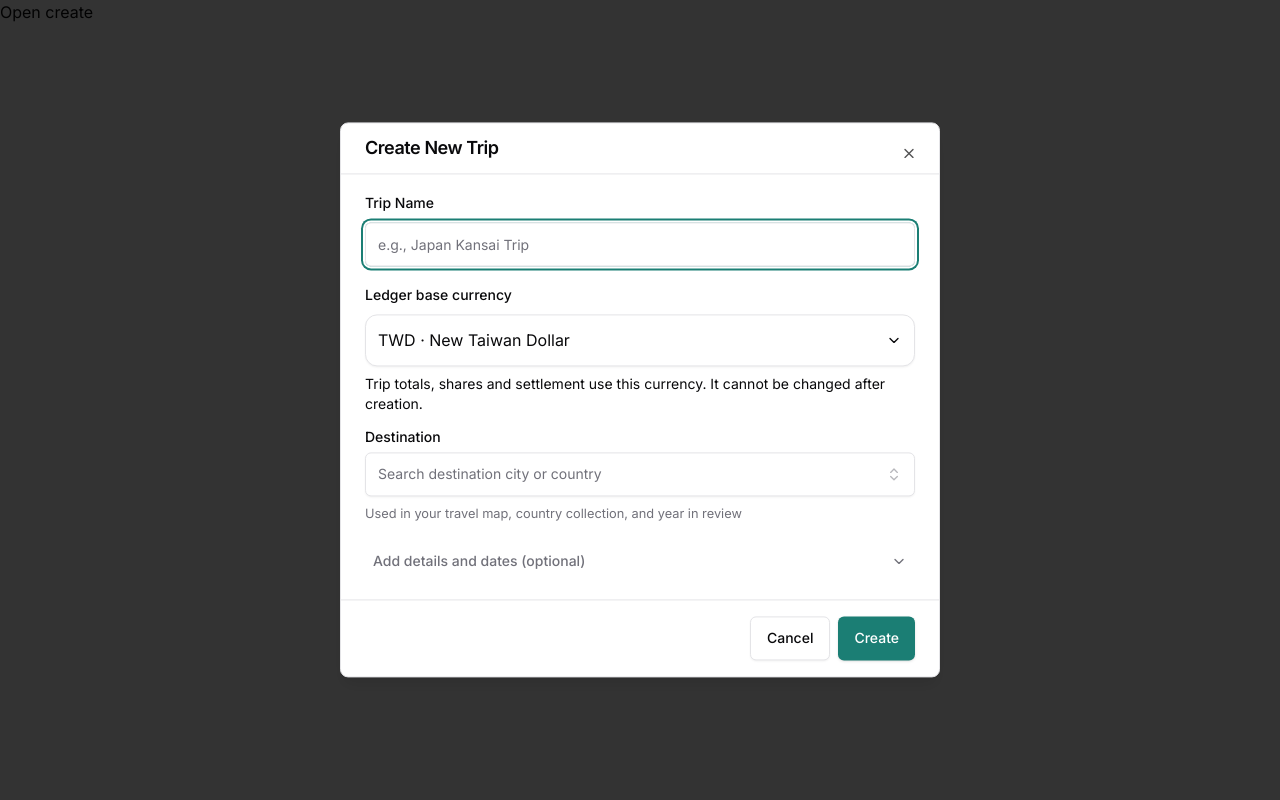
Test: background refresh preserves selected currency and input, blocks submission and does not steal focus
Expected: the button "Create" is enabled, [838,617,915,661]
Click the button with id "trip-base".
click(474, 340)  # box [365,314,915,366]
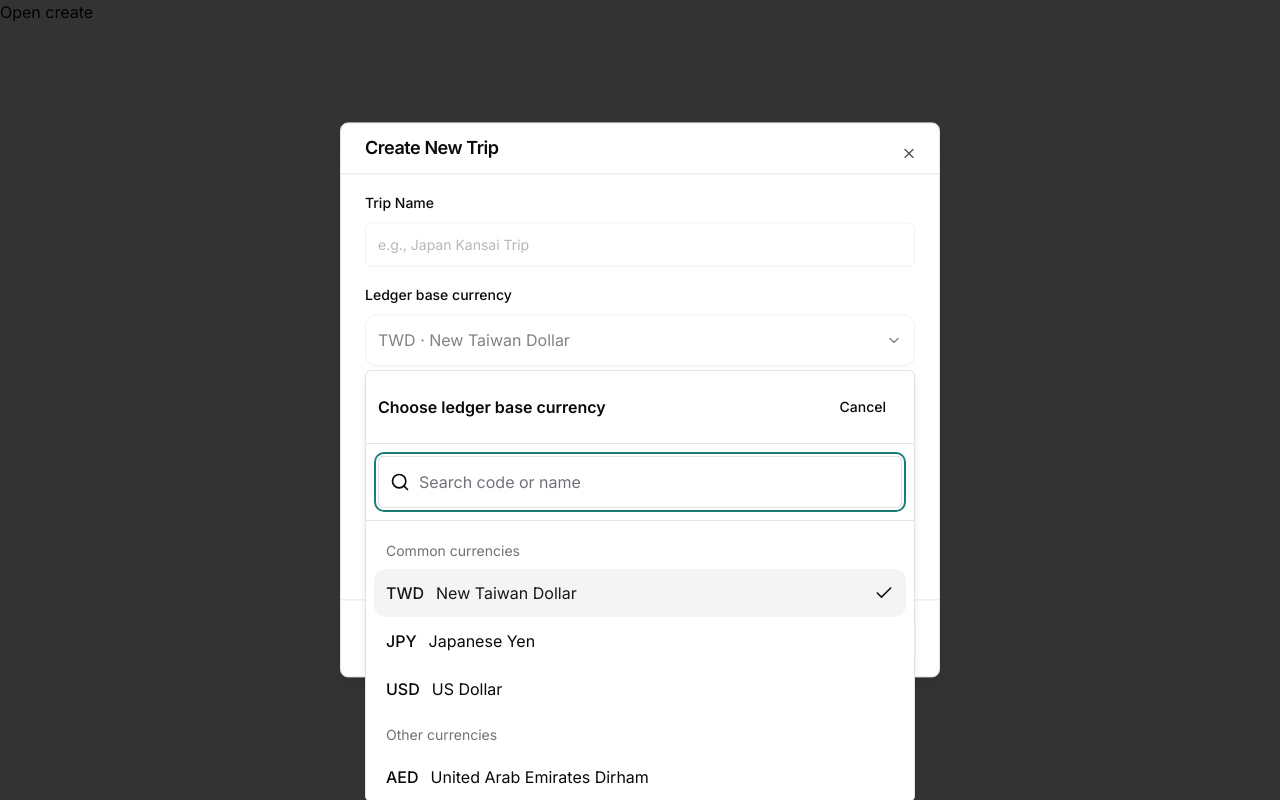
Type "USD" into the dropdown labelled "Choose ledger base currency".
click(640, 482); type("USD")  # box [378,456,902,508]
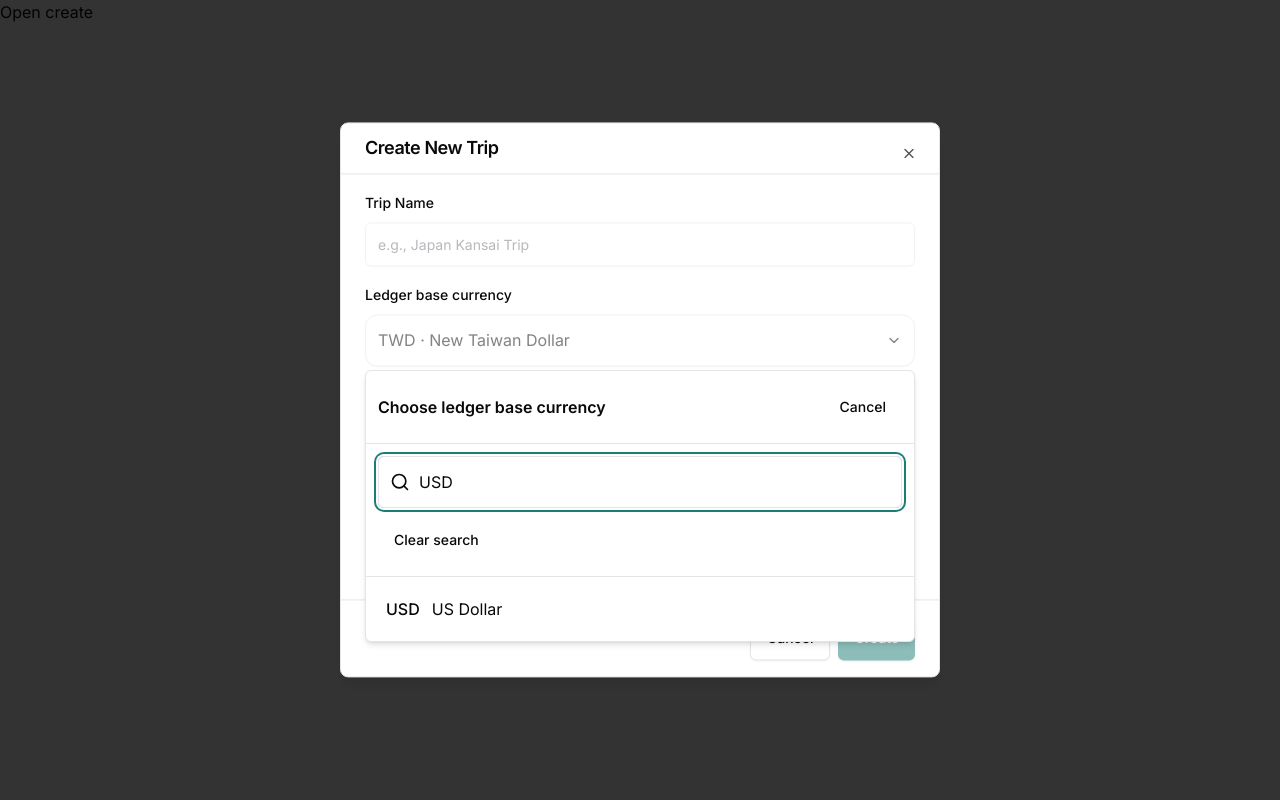
Click the option "USD US Dollar".
click(444, 609)  # box [386,599,502,619]
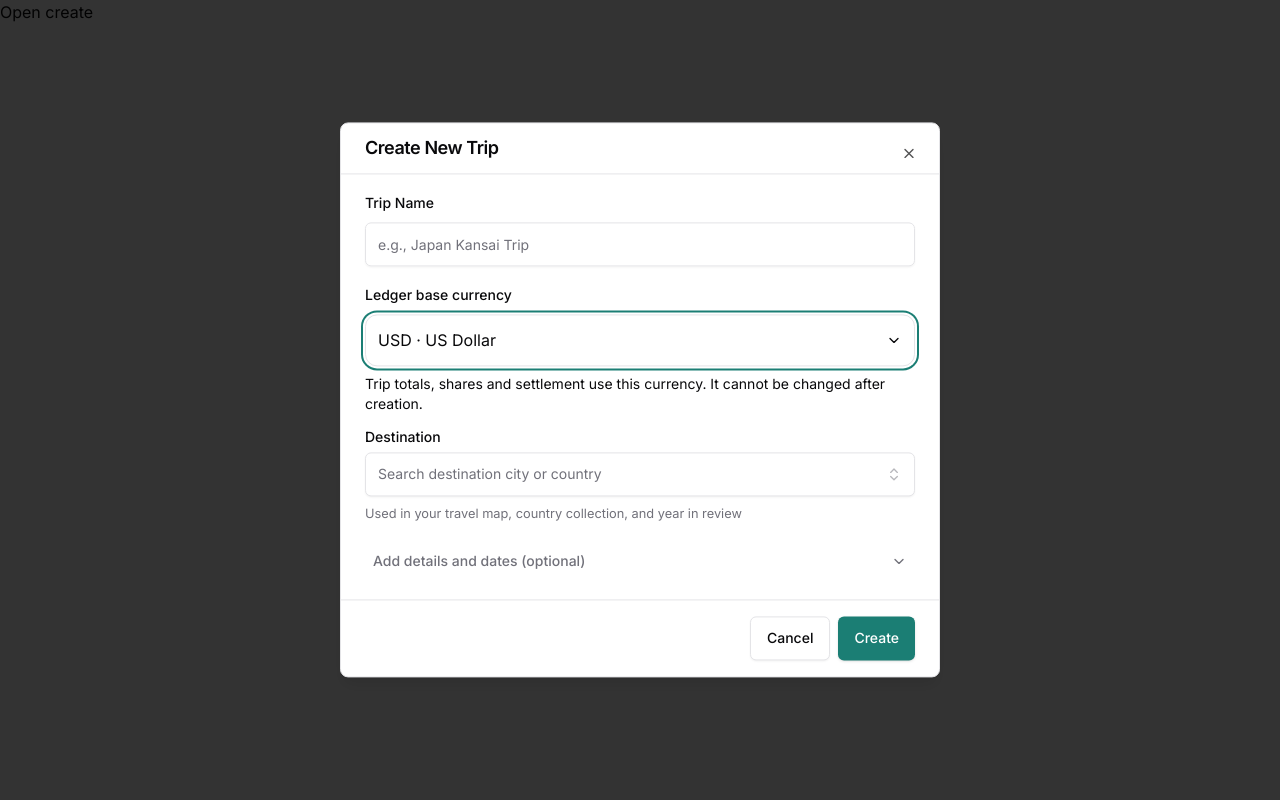
Result: the button with id "trip-base" shows "USD" at [365,314,915,366]
Type "Trip" into the field labelled "Trip Name".
click(640, 244); type("Trip")  # box [365,222,915,266]
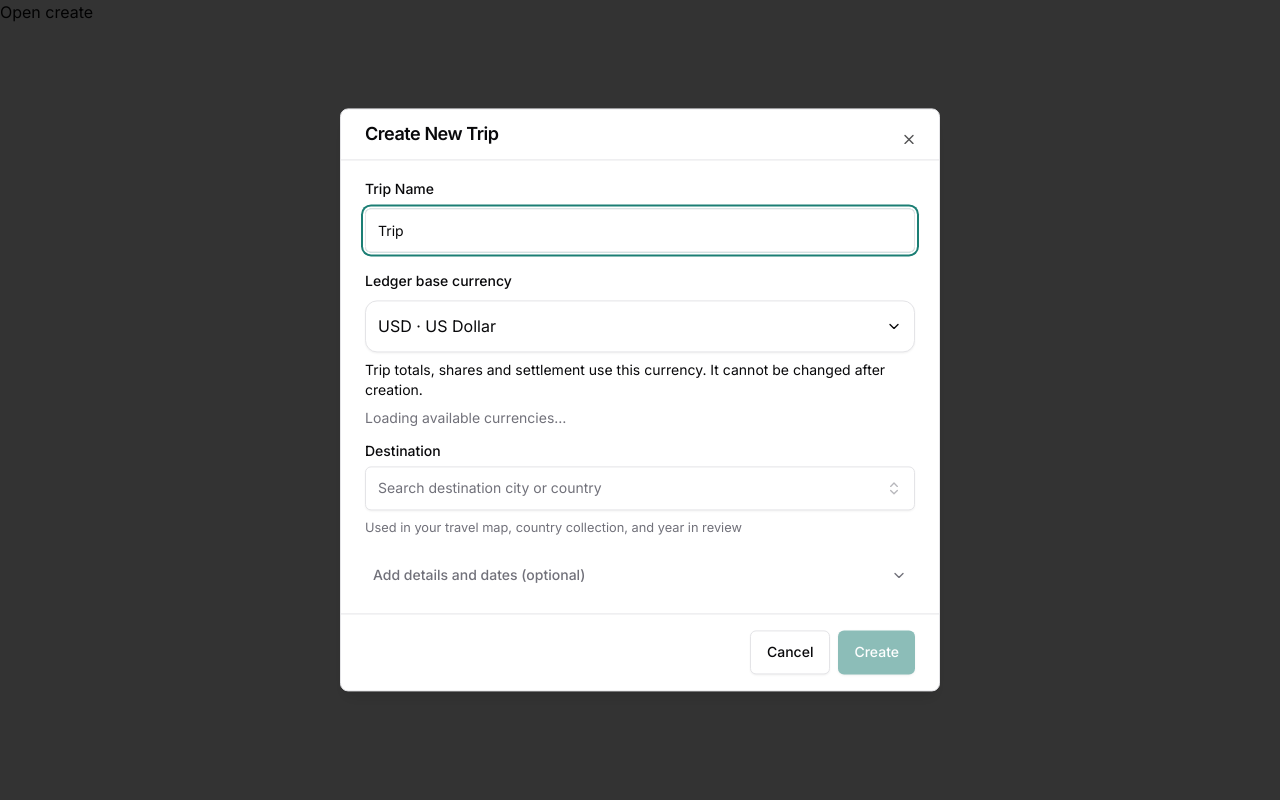
Result: the button with id "trip-base" shows "USD" at [365,300,915,352]
Result: the button "Create" is disabled at [838,631,915,675]
Submit the form with id "create-trip-form", box [365,176,915,598]
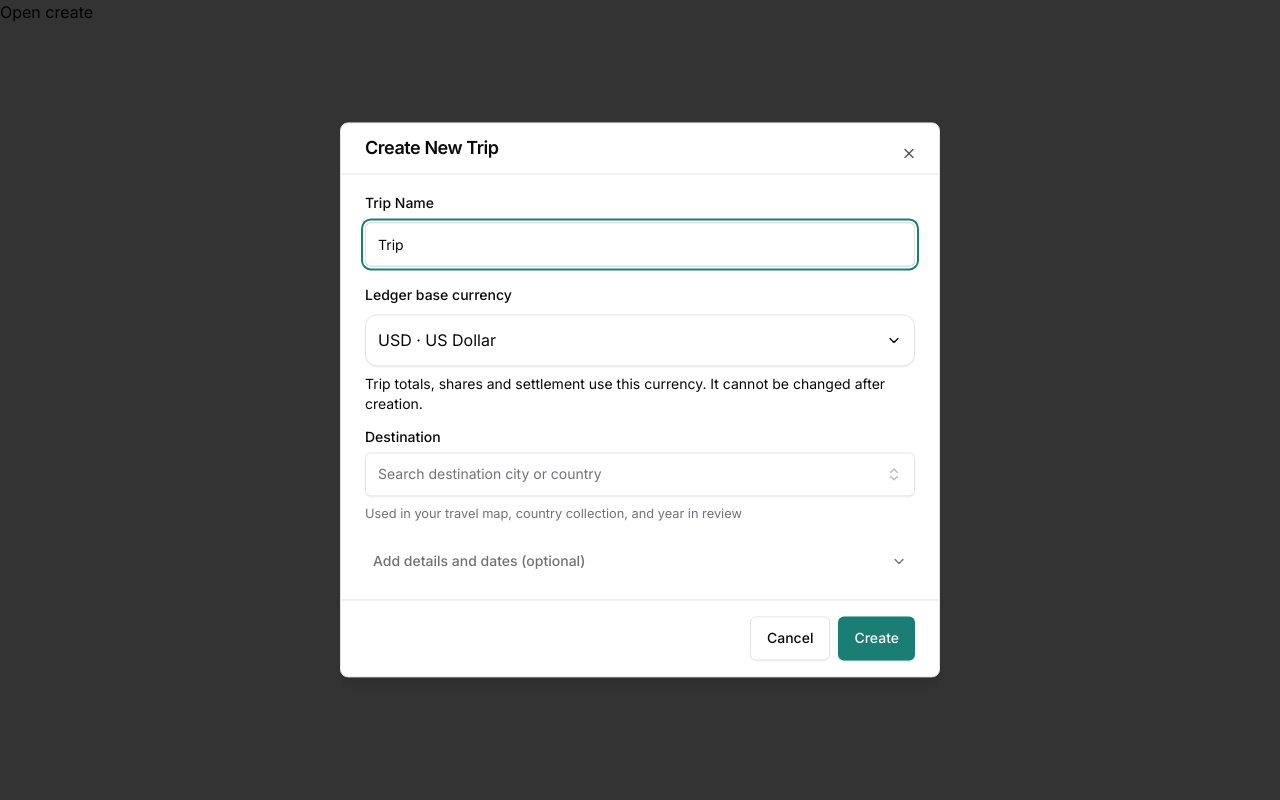
Result: the button with id "trip-base" shows "USD" at [365,314,915,366]
Result: the button "Create" is enabled at [838,617,915,661]
